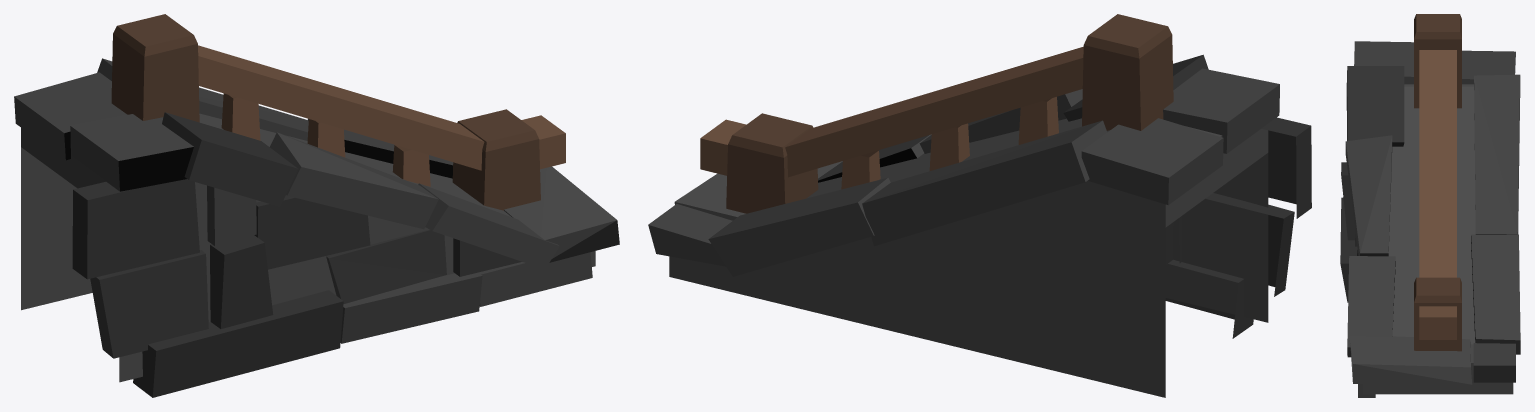
The model's file is Stairs_RailingUp_Center.fbx.
The picture shows the model from 3 angles, left to right: view 1: azimuth 30°, elevation 25°; view 2: azimuth 150°, elevation 25°; view 3: azimuth 270°, elevation 25°; orthographic projection. The views are drawn at different scales.
Parts seen in each view (by area): view 1: Stairs_RailingUp_Center; view 2: Stairs_RailingUp_Center; view 3: Stairs_RailingUp_Center.
Boxes of the visible parts, <box> form: Stairs_RailingUp_Center: <box>14,14,619,397</box>; Stairs_RailingUp_Center: <box>648,14,1311,397</box>; Stairs_RailingUp_Center: <box>1340,14,1520,397</box>.
Bounding box in the file's own units: 6.03 × 3.33 × 2.3.
